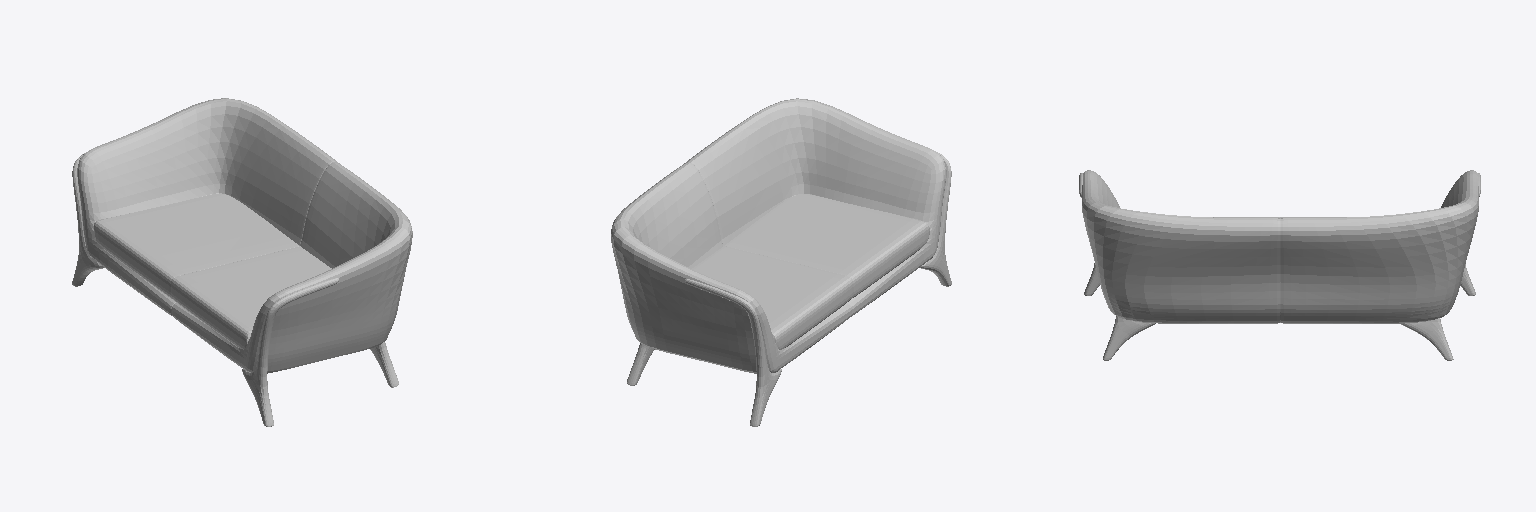
The model's file is sofa.obj.
The picture shows the model from 3 angles: view 1: azimuth 30°, elevation 25°; view 2: azimuth 150°, elevation 25°; view 3: azimuth 270°, elevation 25°; orthographic projection.
Visible parts, largest first — view 1: Rectangle0, Box02, Line01, Line01.Line02, Line03; view 2: Rectangle0, Box02, Line01.Line02, Line01; view 3: Rectangle0, Line03, Line03.Line04.
Part boxes in pixels (x1,y1,x2,y2): Rectangle0: (77, 98, 412, 373); Box02: (94, 194, 331, 349); Line01: (242, 278, 338, 426); Line01.Line02: (72, 153, 103, 286); Line03: (370, 342, 398, 387); Rectangle0: (611, 98, 945, 373); Box02: (692, 194, 929, 349); Line01.Line02: (685, 279, 781, 426); Line01: (920, 151, 951, 286); Rectangle0: (1082, 170, 1478, 323); Line03: (1103, 316, 1155, 360); Line03.Line04: (1401, 318, 1453, 360).
Size of the model in its own units: 26.51 by 22.86 by 52.56.